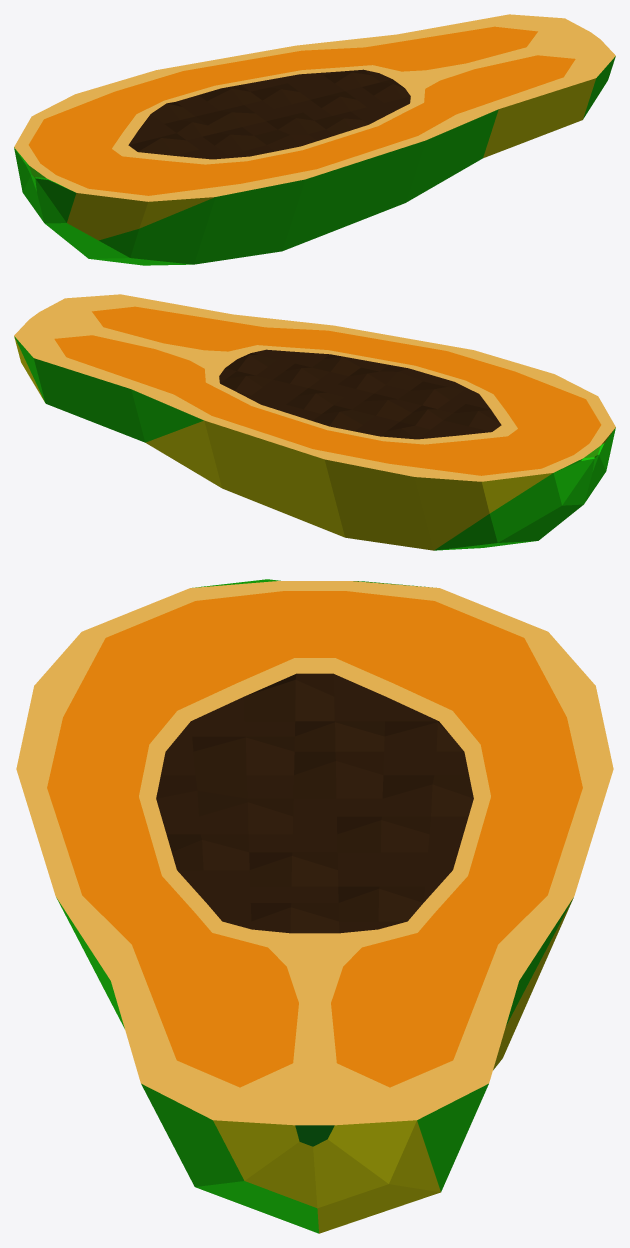
The model's file is papaya02.obj.
The picture shows the model from 3 angles, top to bottom: view 1: azimuth 30°, elevation 25°; view 2: azimuth 150°, elevation 25°; view 3: azimuth 270°, elevation 25°; orthographic projection. The views are drawn at different scales.
Parts seen in each view (by area): view 1: Cylinder.001_Cylinder.002; view 2: Cylinder.001_Cylinder.002; view 3: Cylinder.001_Cylinder.002.
Part boxes in pixels (bbox=[...]): Cylinder.001_Cylinder.002: bbox=[14, 14, 615, 265]; Cylinder.001_Cylinder.002: bbox=[14, 294, 615, 550]; Cylinder.001_Cylinder.002: bbox=[16, 579, 613, 1233].
Size of the model in its own units: 0.2347 by 0.0548 by 0.1079.
1 material, 1 textured.
